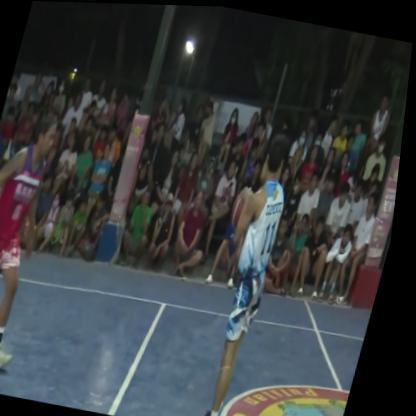basketball: (230, 179, 263, 234)
